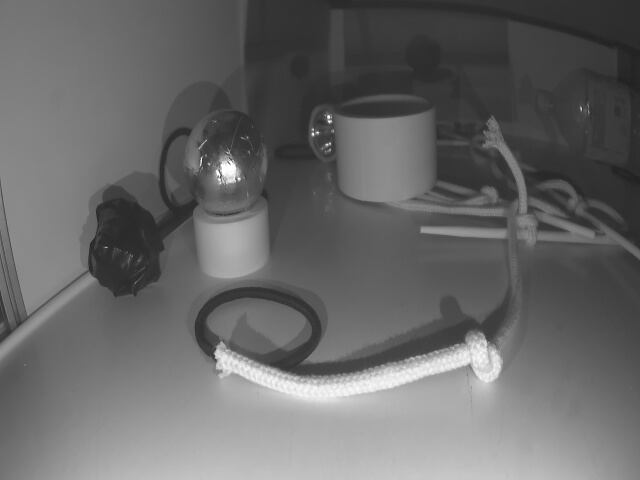Dead: (85, 197, 166, 294)
Live: (185, 114, 269, 212)
